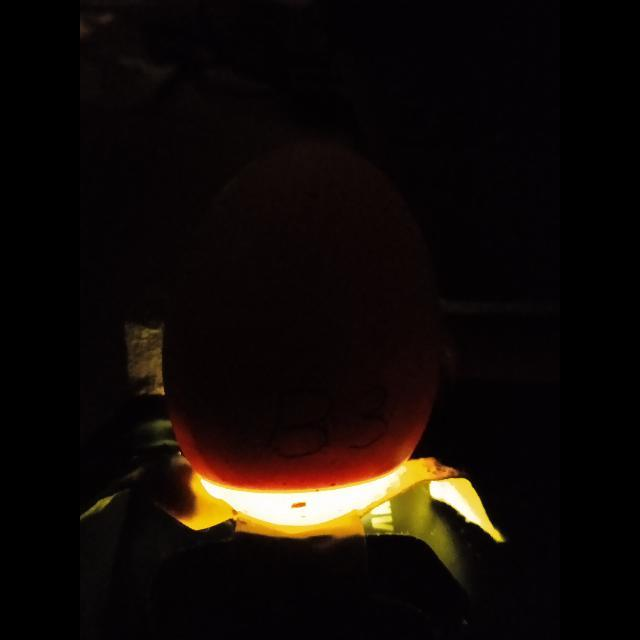Fertile: (157, 173, 436, 529)
